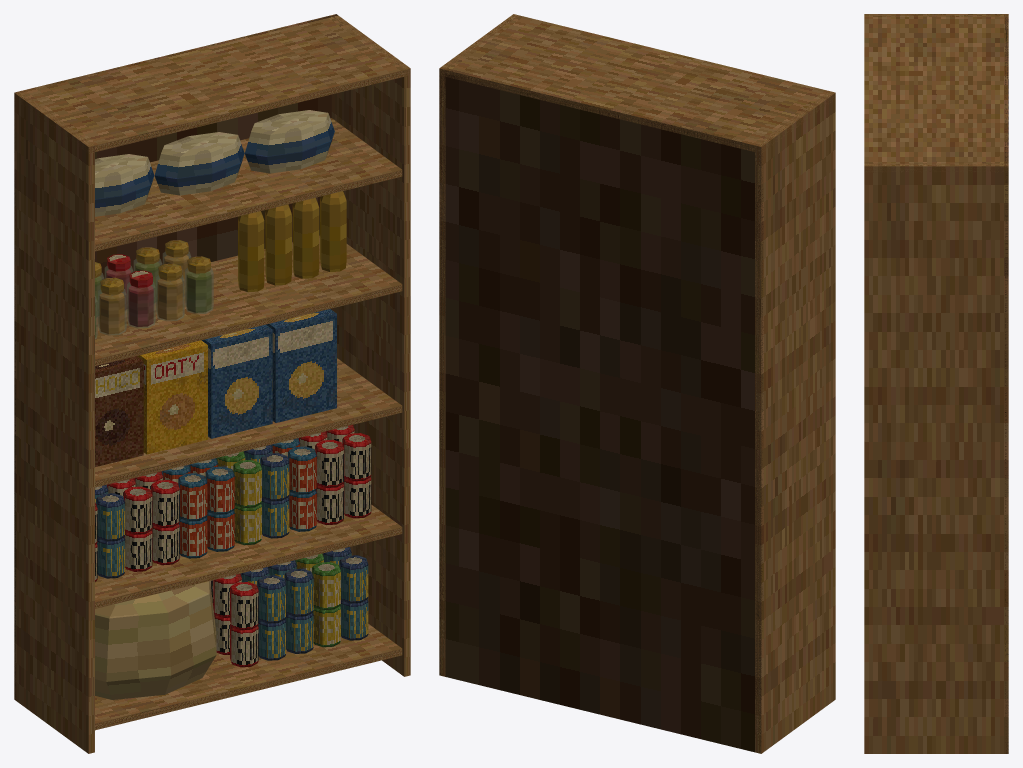
Rendered from PSX_ShelvesPropsHorrorItemsPantryShelf.glb.
The picture shows the model from 3 angles, left to right: view 1: azimuth 30°, elevation 25°; view 2: azimuth 150°, elevation 25°; view 3: azimuth 270°, elevation 25°; orthographic projection. The views are drawn at different scales.
Visible parts, largest first — view 1: PantryShelf; view 2: PantryShelf; view 3: PantryShelf.
Part boxes in pixels (box(x1,y1,x2,y2)): PantryShelf: box(14, 14, 410, 753); PantryShelf: box(439, 14, 835, 753); PantryShelf: box(864, 14, 1008, 753).
Size of the model in its own units: 1 by 1.8 by 0.4.
Materials: 18 (18 with a texture image).
